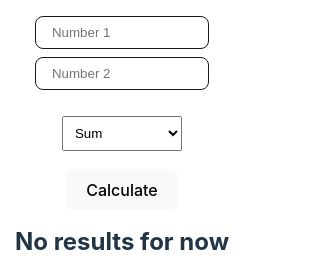
Component: Calculator › should calculate correctly
Type "5" into the number field with test id "number-1-input". click: (122, 32)
box: [35,16,209,49]
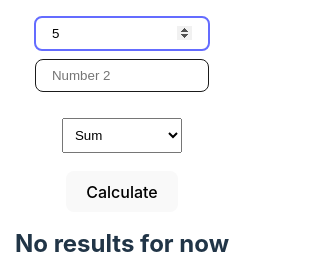
Type "10" into the number field with test id "number-2-input". click: (122, 76)
box: [35,59,209,92]
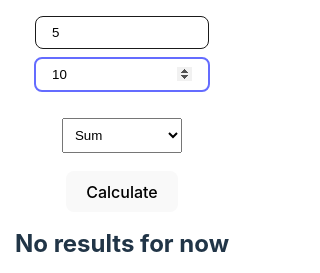
Select "Multiplication" in the dropdown with test id "operation-select". click: (122, 136)
box: [62,118,182,153]
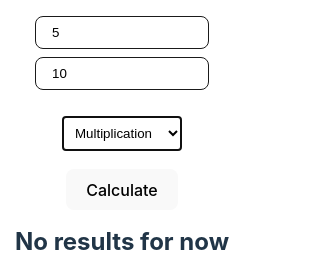
Click the button with test id "calculate-button". click: (122, 190)
box: [66,169,178,210]
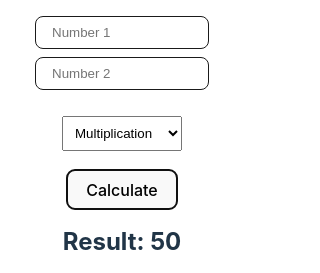
Now the text with test id "result" reads "50", box [150,227,181,256]
Now the number field with test id "number-1-input" is not empty, box [35,16,209,49]
Now the number field with test id "number-2-input" is not empty, box [35,57,209,90]
